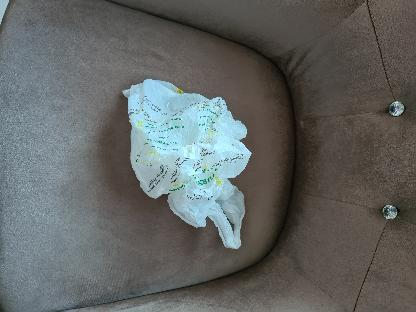Others: (121, 75, 254, 251)
